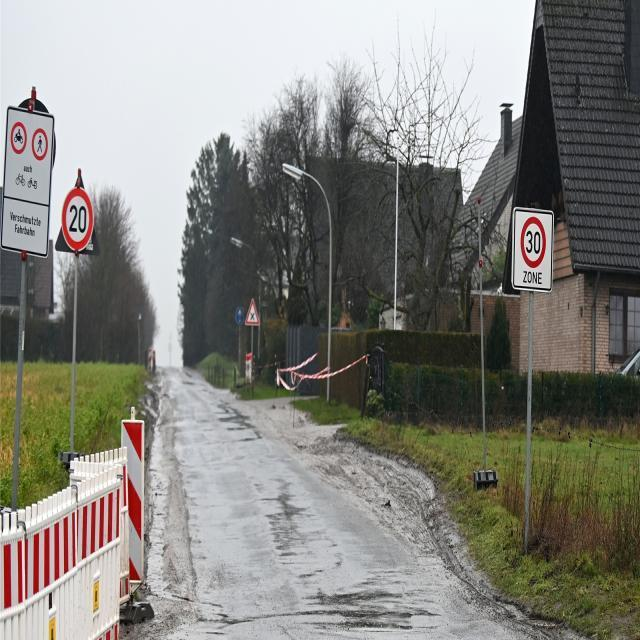Speed Limit -30-: (520, 217, 546, 268)
